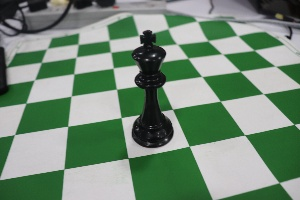black_king: (118, 18, 178, 155)
